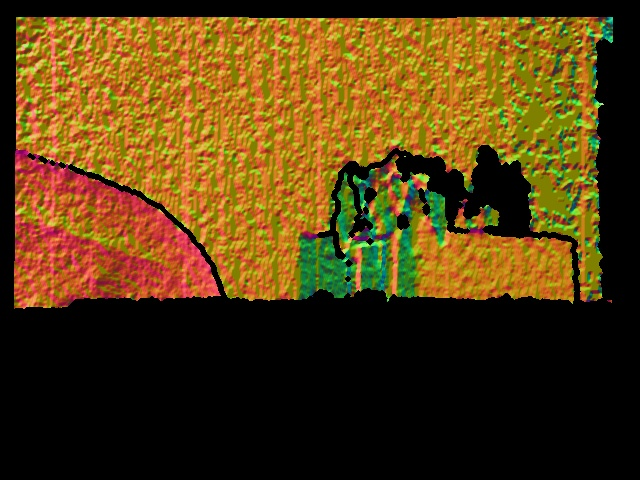station: (344, 234, 396, 302)
